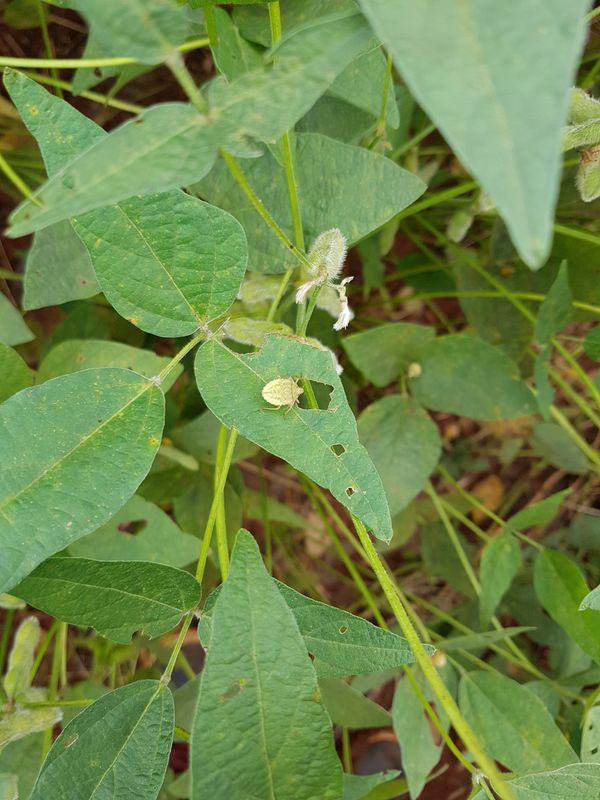Euschistus_heros_ninfa: (253, 369, 312, 418)
